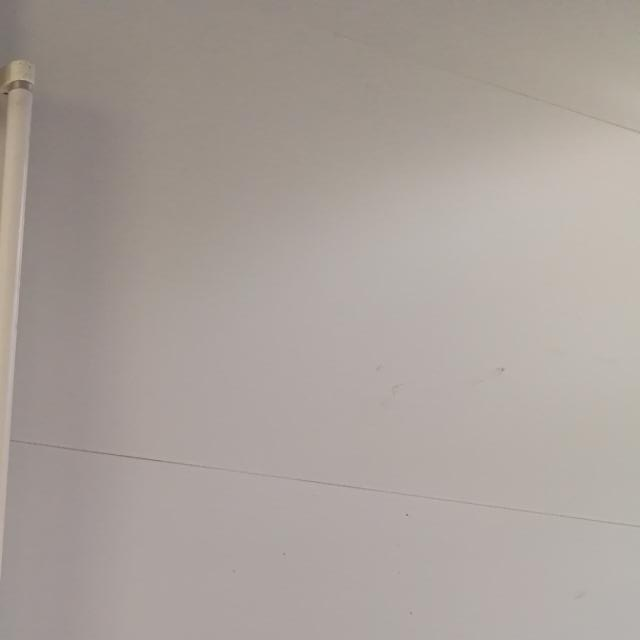fluorescent tube: (0, 12, 68, 640)
